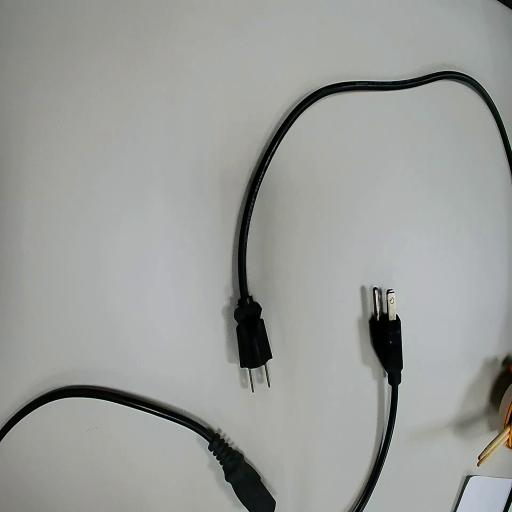wire: (234, 72, 511, 368), (0, 386, 274, 511), (354, 306, 401, 511)
